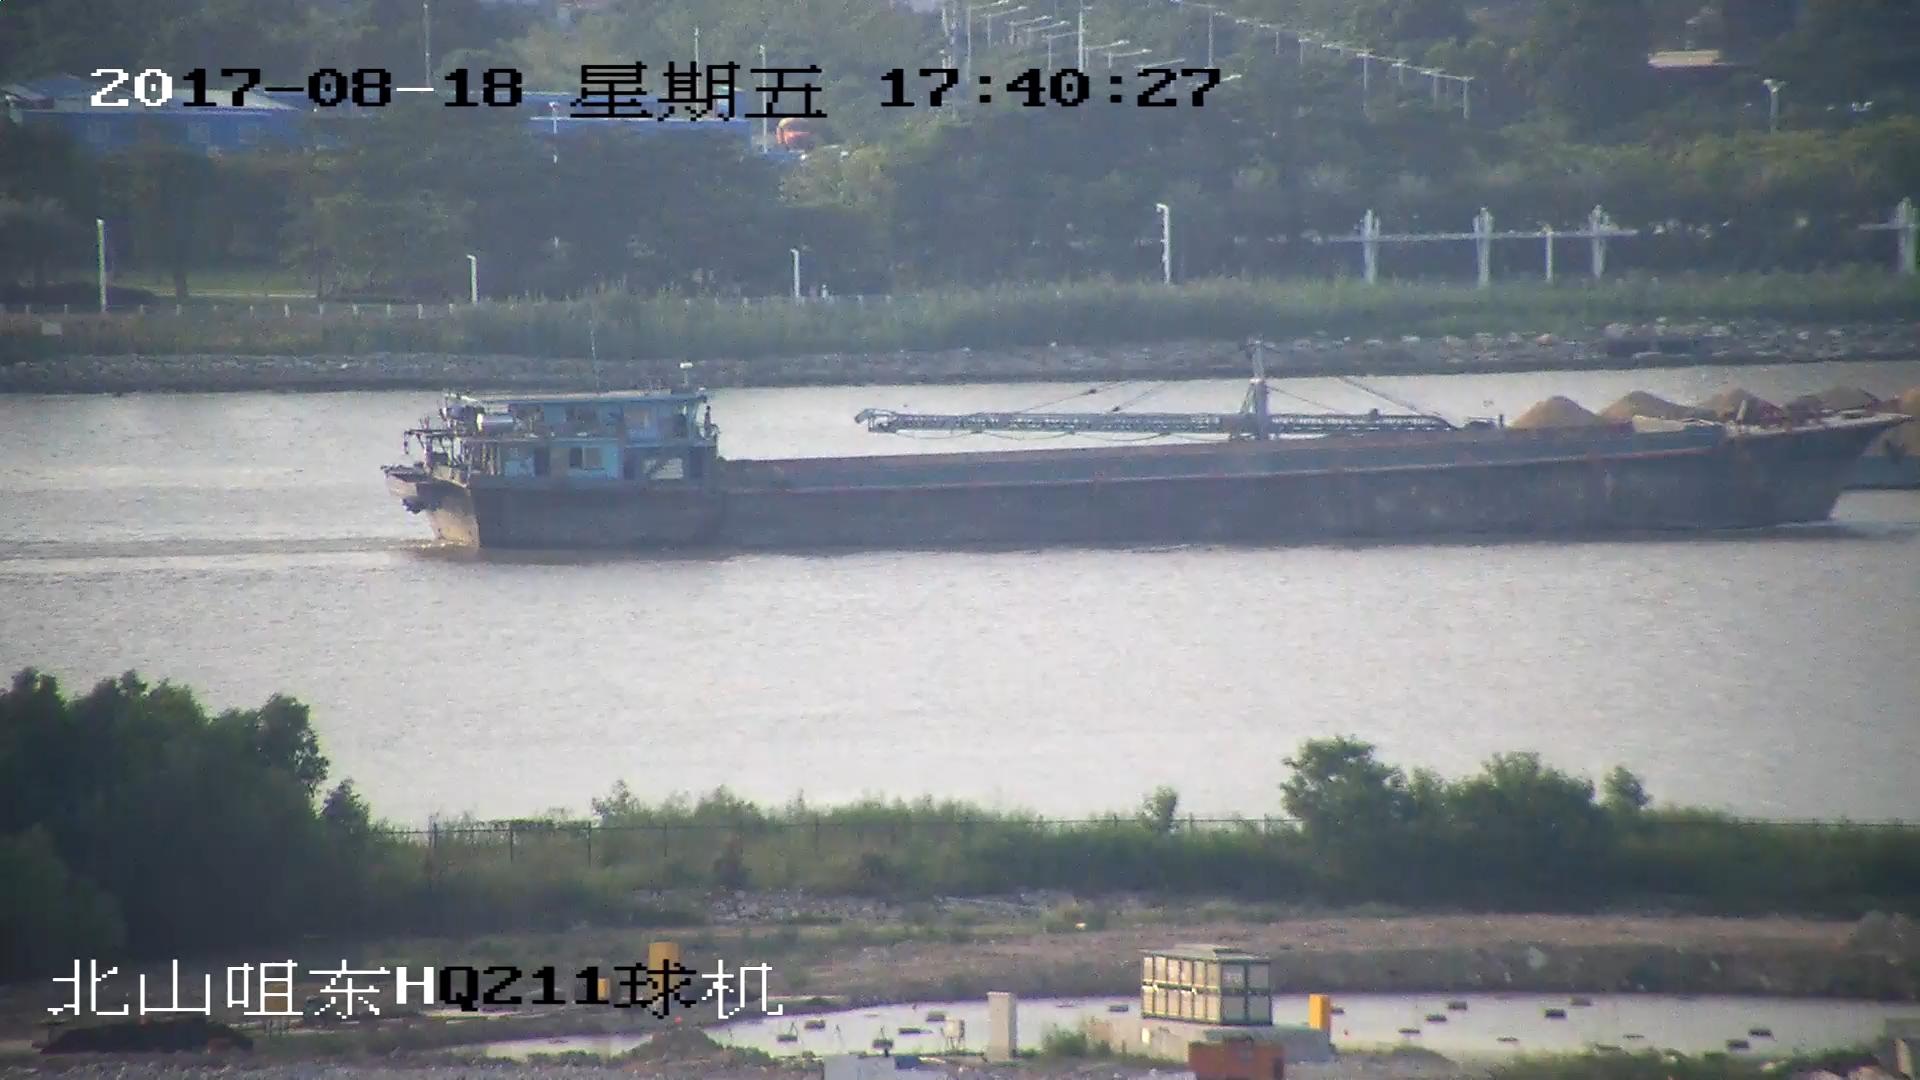bulk cargo carrier: (385, 387, 1910, 554)
ore carrier: (861, 350, 1920, 498)
